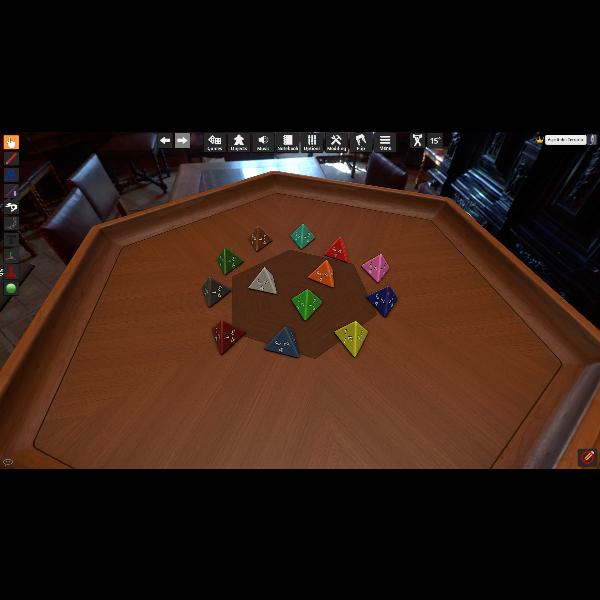d4: (334, 321, 366, 356), (266, 326, 300, 358), (213, 320, 245, 354), (290, 288, 320, 320), (366, 285, 394, 317), (203, 276, 231, 308), (249, 266, 277, 294), (361, 254, 387, 282), (308, 260, 334, 288), (218, 246, 242, 276), (248, 225, 272, 251), (325, 236, 347, 262), (291, 224, 313, 248)
